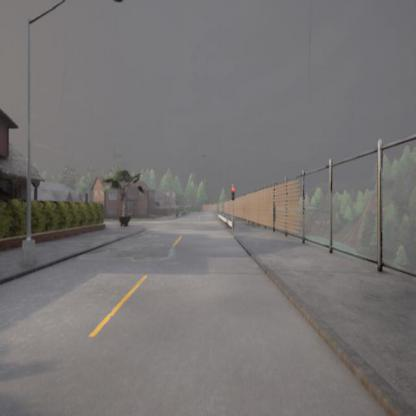traffic_light_red: (232, 186, 235, 200)
